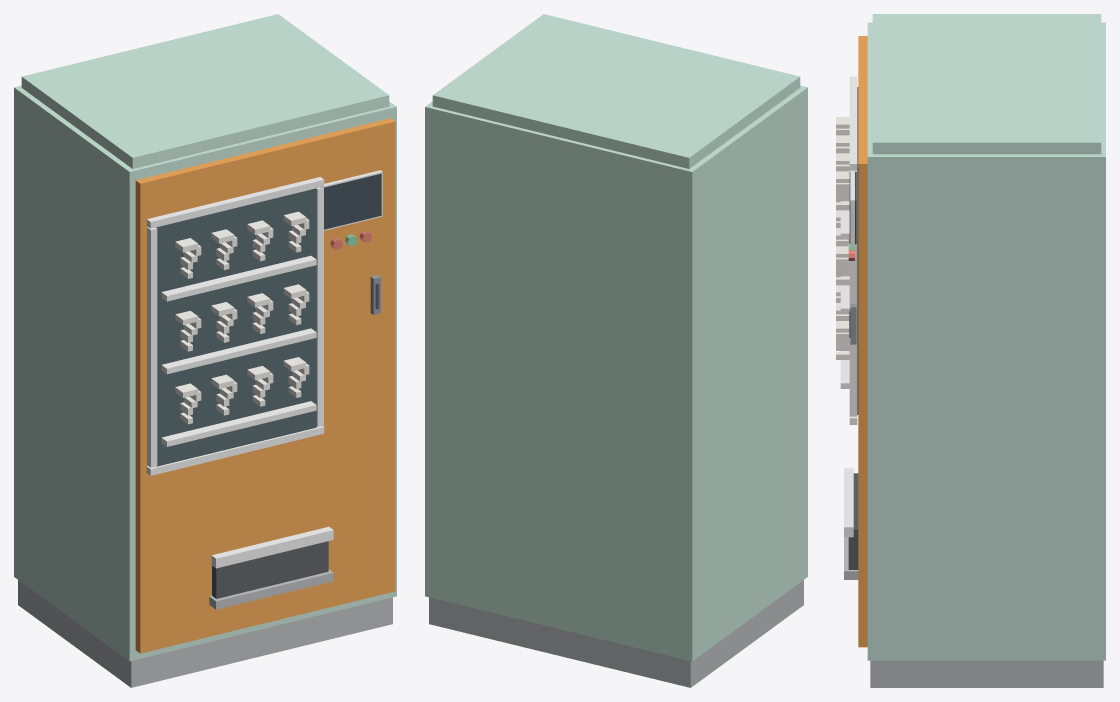
The model's file is 抽奖机.glb.
3 views of the same model, side by side, from view 1: azimuth 30°, elevation 25°; view 2: azimuth 150°, elevation 25°; view 3: azimuth 270°, elevation 25° (orthographic). The views are drawn at different scales.
Parts seen in each view (by area): view 1: 抽奖机; view 2: 抽奖机; view 3: 抽奖机.
Part boxes in pixels (box(x1,y1,x2,y2)): 抽奖机: box(14, 14, 396, 687); 抽奖机: box(425, 14, 807, 687); 抽奖机: box(836, 14, 1105, 687).
Bounding box in the file's own units: 1 × 1.89 × 0.85.
